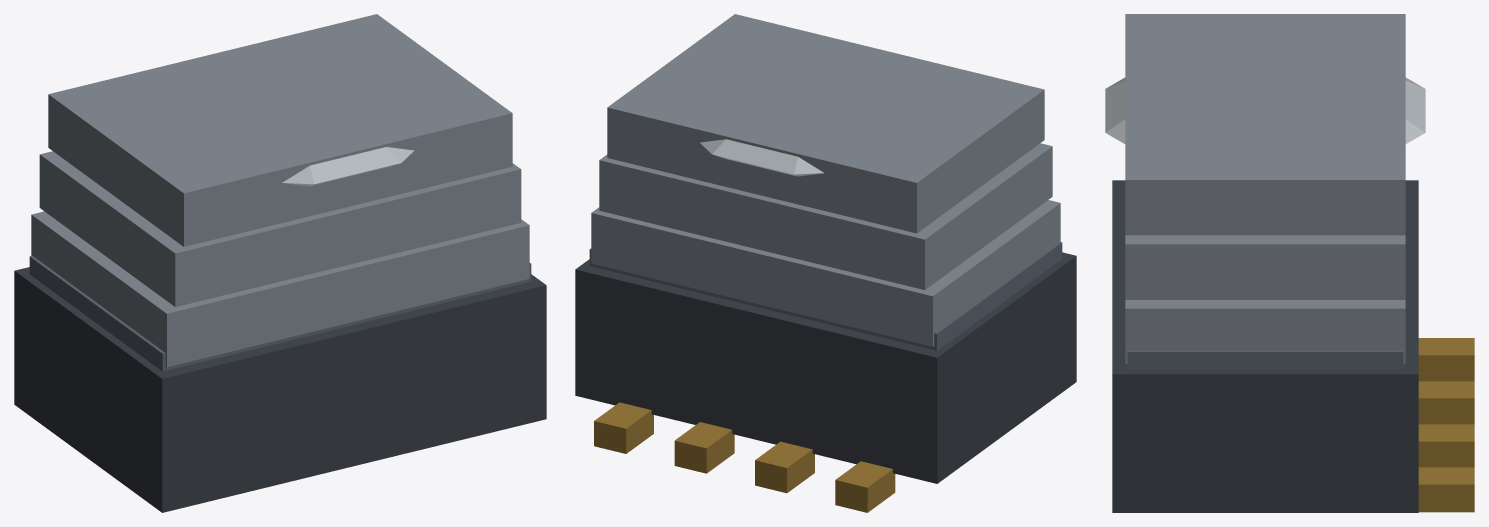
The model's file is droid-dura-plating-mk-3.glb.
The picture shows the model from 3 angles, left to right: view 1: azimuth 30°, elevation 25°; view 2: azimuth 150°, elevation 25°; view 3: azimuth 270°, elevation 25°; orthographic projection. The views are drawn at different scales.
Parts seen in each view (by area): view 1: m; view 2: m; view 3: m.
Part boxes in pixels (left/top/right/bottom): m: left=14, top=14, right=546, bottom=512; m: left=575, top=14, right=1076, bottom=512; m: left=1105, top=14, right=1474, bottom=512.
Bounding box in the file's own units: 0.1 × 0.0822 × 0.0804.
